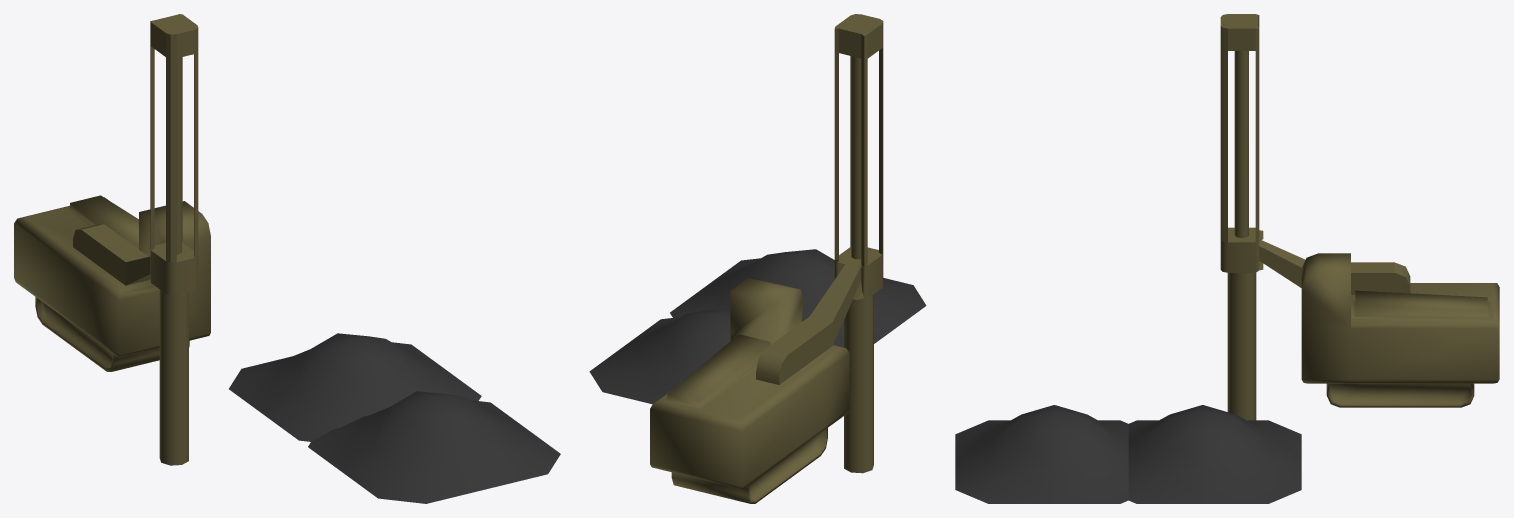
File: Mining Drill Lvl2.fbx
The picture shows the model from 3 angles, left to right: view 1: azimuth 30°, elevation 25°; view 2: azimuth 150°, elevation 25°; view 3: azimuth 270°, elevation 25°; orthographic projection. The views are drawn at different scales.
Visible parts, largest first — view 1: Mining Drill Engine, Stone Pile.001, Mining Drill, Stone Pile; view 2: Mining Drill Engine, Mining Drill, Stone Pile, Stone Pile.001; view 3: Mining Drill Engine, Mining Drill, Stone Pile, Stone Pile.001.
Boxes of the visible parts, box(x1,y1,x2,y2) form: Mining Drill Engine: box(14, 195, 210, 371); Stone Pile.001: box(308, 391, 560, 503); Mining Drill: box(73, 14, 198, 465); Stone Pile: box(229, 333, 481, 441); Mining Drill Engine: box(650, 278, 849, 503); Mining Drill: box(756, 14, 883, 473); Stone Pile: box(589, 308, 730, 404); Stone Pile.001: box(670, 249, 926, 347); Mining Drill Engine: box(1301, 253, 1499, 407); Mining Drill: box(1220, 14, 1410, 420); Stone Pile: box(1128, 405, 1301, 503); Stone Pile.001: box(955, 405, 1128, 503).
Size of the model in its own units: 600 by 911 by 1100.
